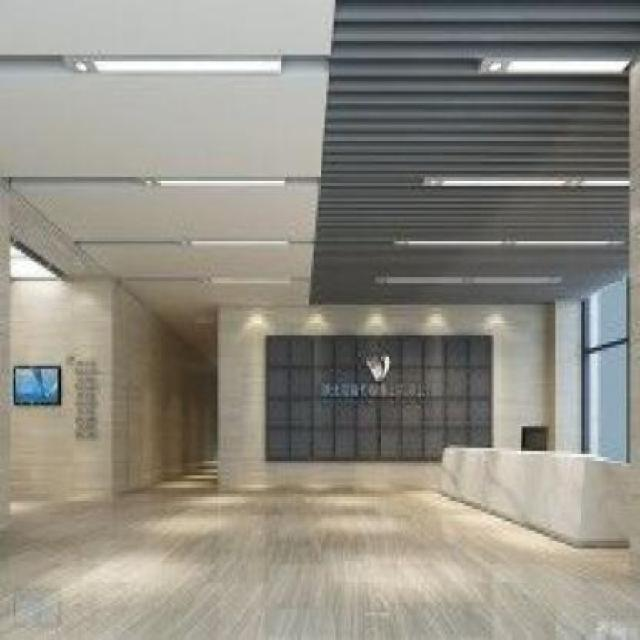frontdesk: (431, 430, 640, 564)
